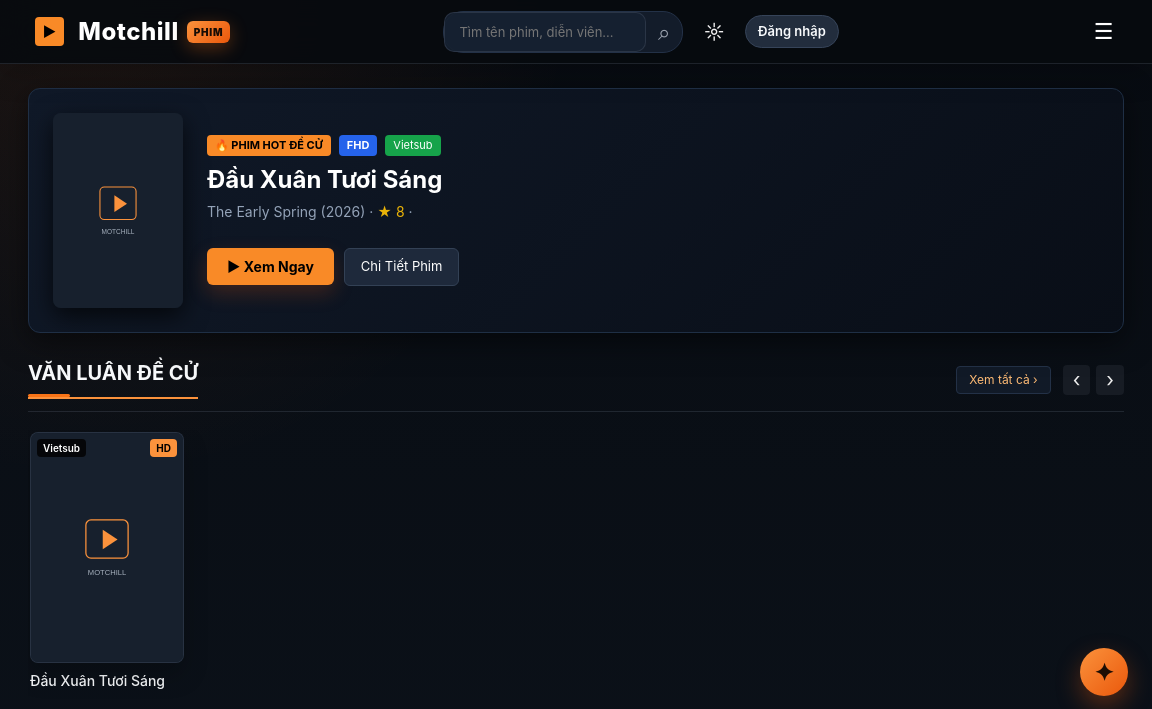
it: Home renders and search accepts Vietnamese without accents
This screenshot has width=1152, height=709.
Type "dau xuan" into the field named "Tìm kiếm phim" at (545, 32), box [444,12,646,52]
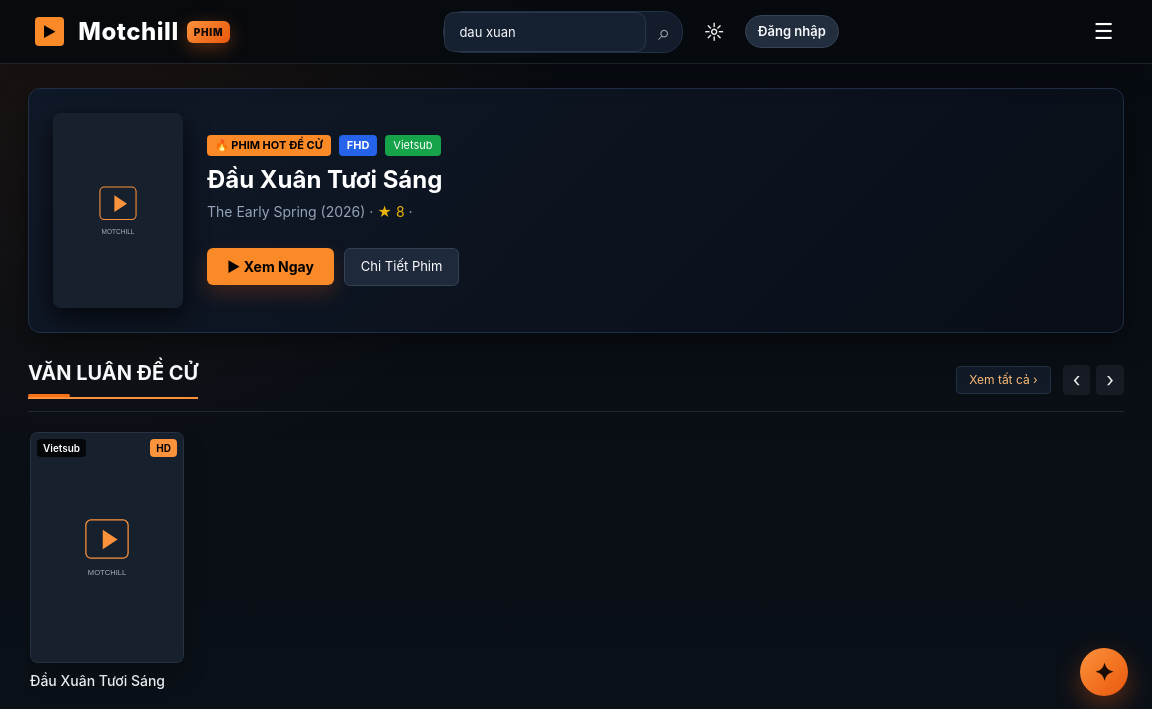
Click the button named "Tìm kiếm" at (664, 32), box [646,20,682,42]
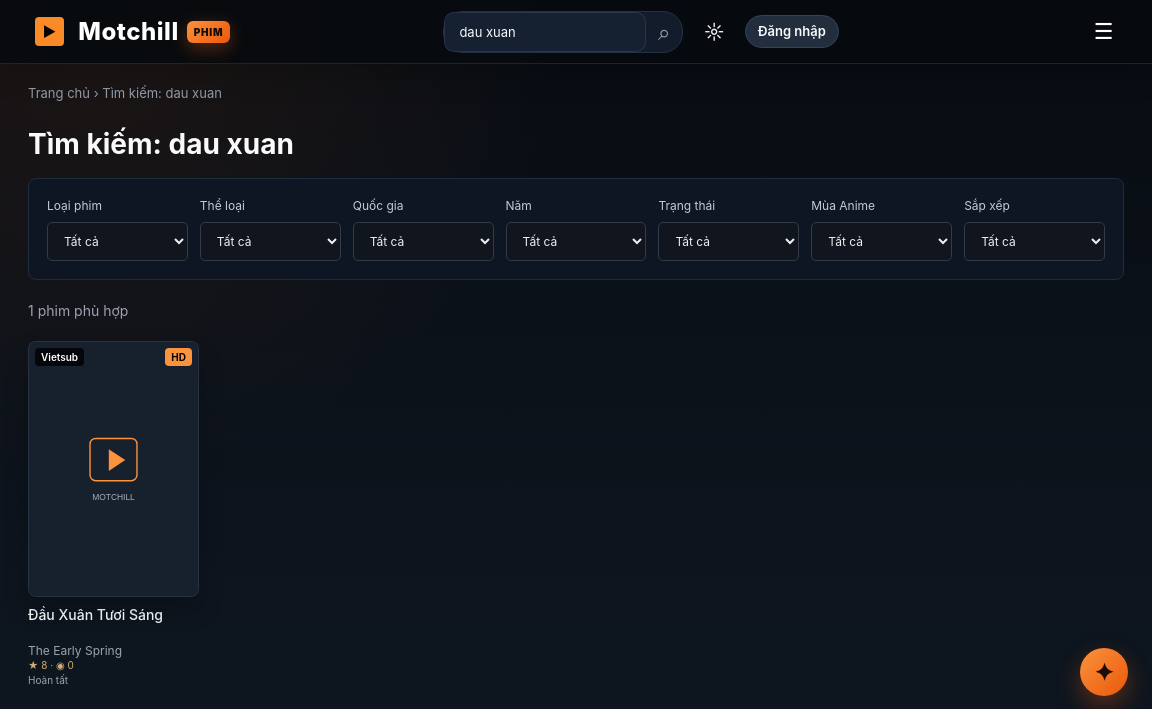
Now the heading "Tìm kiếm: dau xuan" is shown, box [28,126,294,160]
Now the text "1 phim phù hợp" is shown, box [28,302,128,319]
